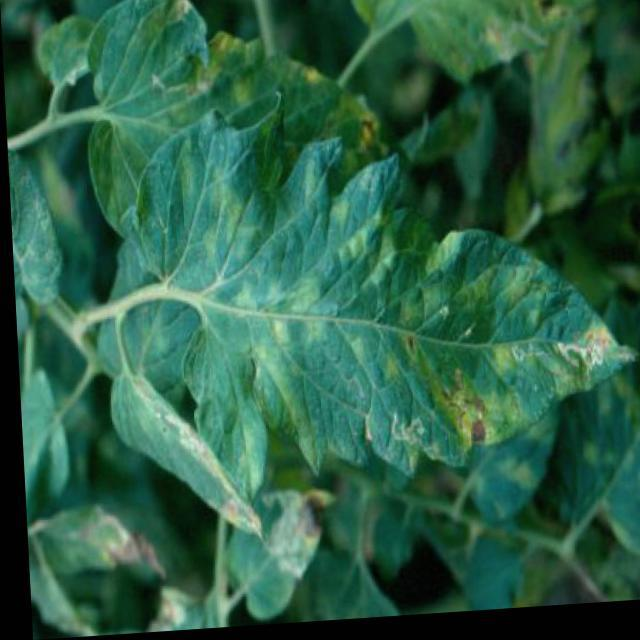Tomato mold leaf: (110, 84, 639, 505)
